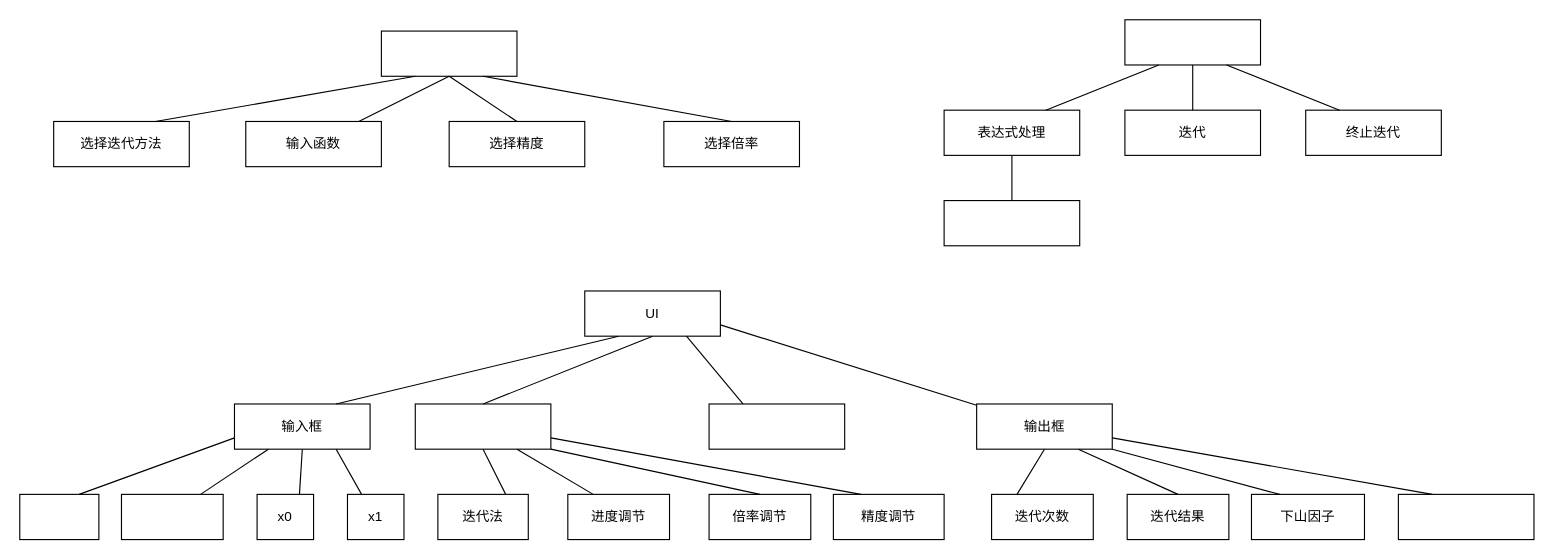
This 1554x559 diagram has some shape labels left out. The box of each missing label's shape, as (x1, y1, x2, y2) in pixels:
函数: (19, 493, 99, 540)
图像区域: (708, 403, 845, 449)
图像绘制: (943, 199, 1080, 246)
提示: (1397, 493, 1534, 540)
数据处理模块: (1124, 19, 1261, 65)
用户功能模块: (380, 30, 517, 76)
等价形式: (120, 493, 223, 540)
选项: (414, 403, 551, 449)
